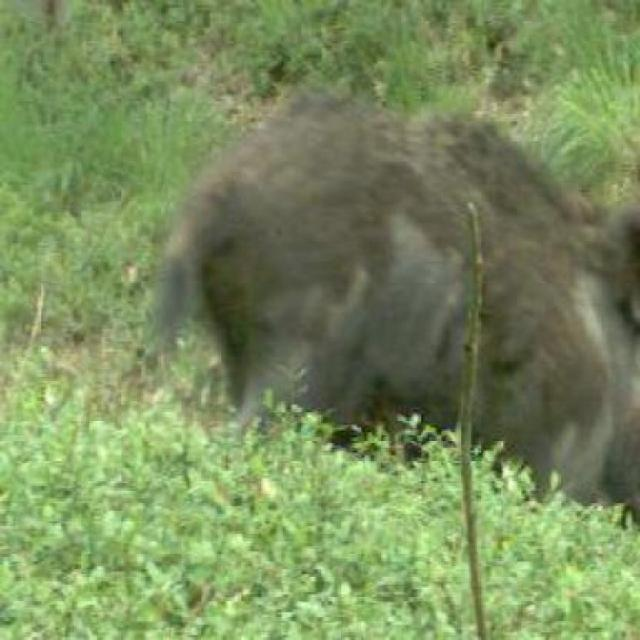WildBoar: (157, 27, 638, 638)
